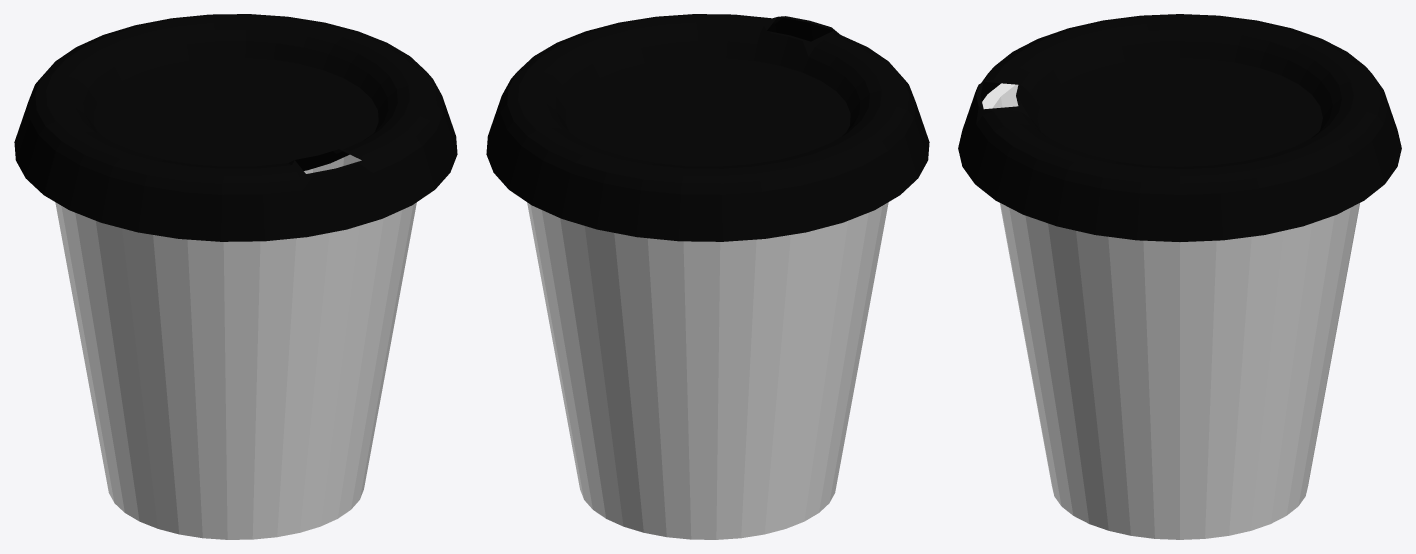
File: CoffeeCup.fbx
The picture shows the model from 3 angles, left to right: view 1: azimuth 30°, elevation 25°; view 2: azimuth 150°, elevation 25°; view 3: azimuth 270°, elevation 25°; orthographic projection.
Visible parts, largest first — view 1: Circle.001; view 2: Circle.001; view 3: Circle.001.
Part boxes in pixels (bbox=[...]): Circle.001: bbox=[14, 14, 457, 539]; Circle.001: bbox=[486, 14, 929, 539]; Circle.001: bbox=[958, 14, 1401, 539].
Bounding box in the file's own units: 26.73 × 25.93 × 26.73.
